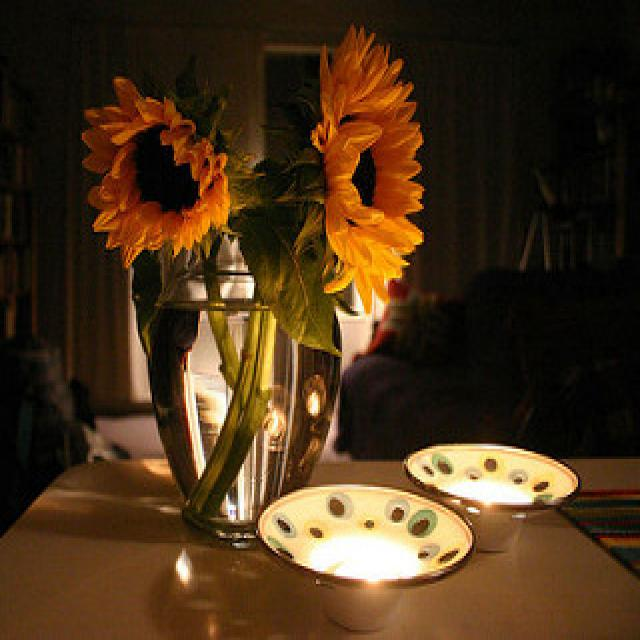sunflower: (310, 21, 424, 316), (81, 66, 235, 268)
